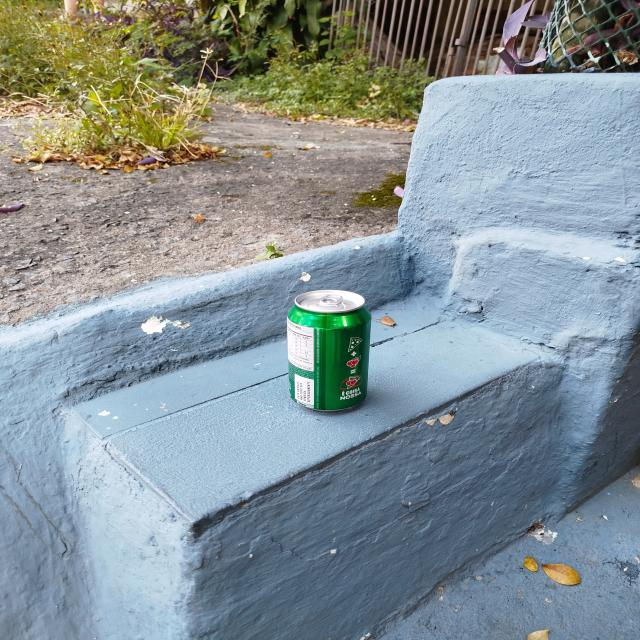Guarana: (285, 289, 369, 412)
